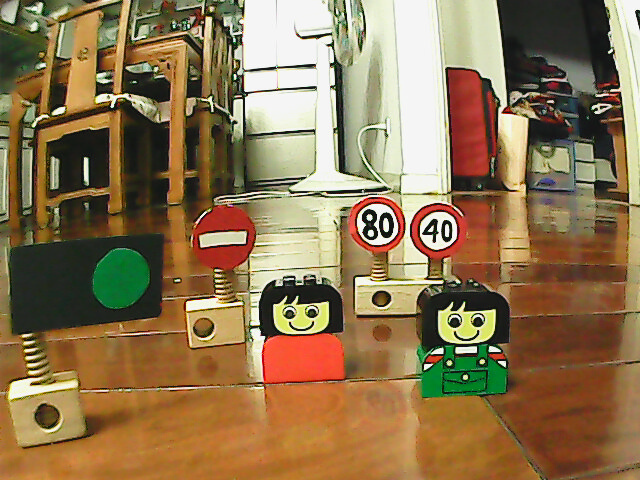Green Traffic Light: (87, 239, 159, 315)
Person: (256, 272, 351, 384)
Speed Limit 40: (407, 200, 470, 262)
Speed Limit 80: (344, 193, 408, 253)
Stop Sign: (188, 202, 258, 270)
